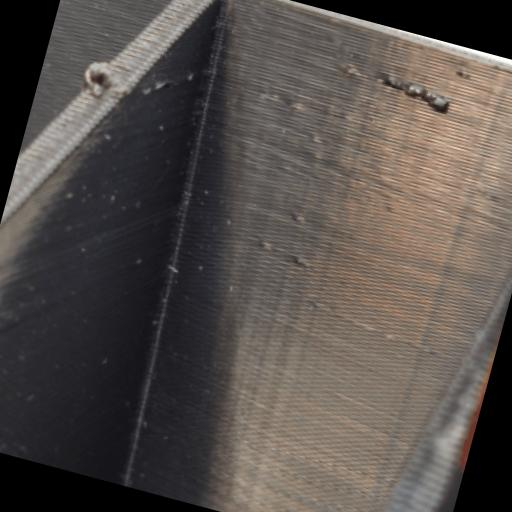blobs: (348, 41, 480, 132), (240, 195, 326, 281), (70, 45, 128, 113)
